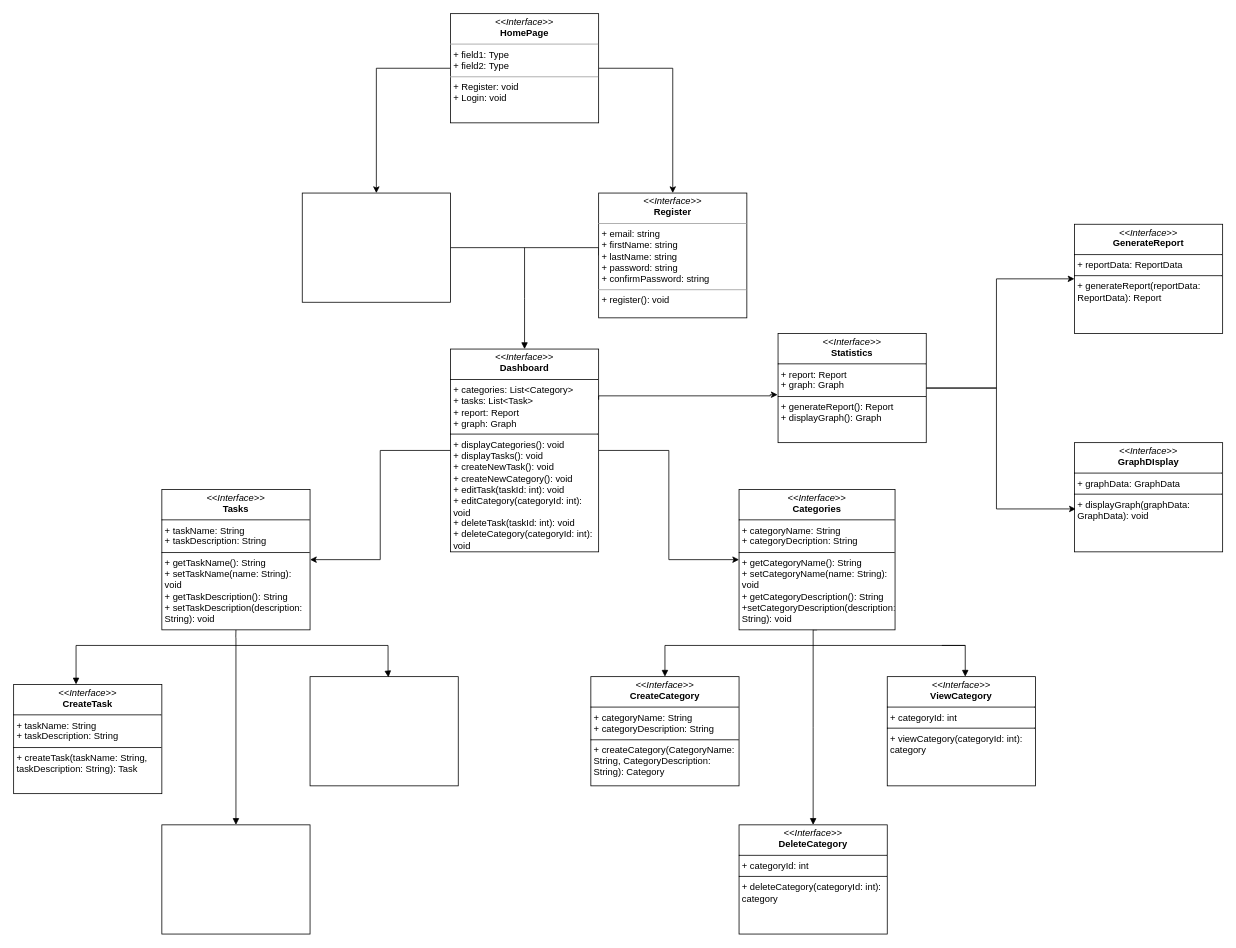
This 1236x948 diagram has some shape labels left out. Here are the shapes that lost their labels. From the top down, the box of each, then its label:
(301, 192, 450, 302): <<Interface>> Login + email: string + password: string + signIn(): void
(309, 676, 458, 786): <<Interface>> ViewTask + taskId: int + viewTask(taskId: int): Task
(161, 824, 310, 934): <<Interface>> DeleteTask + taskId: int + deleteTask(taskId: int): void
